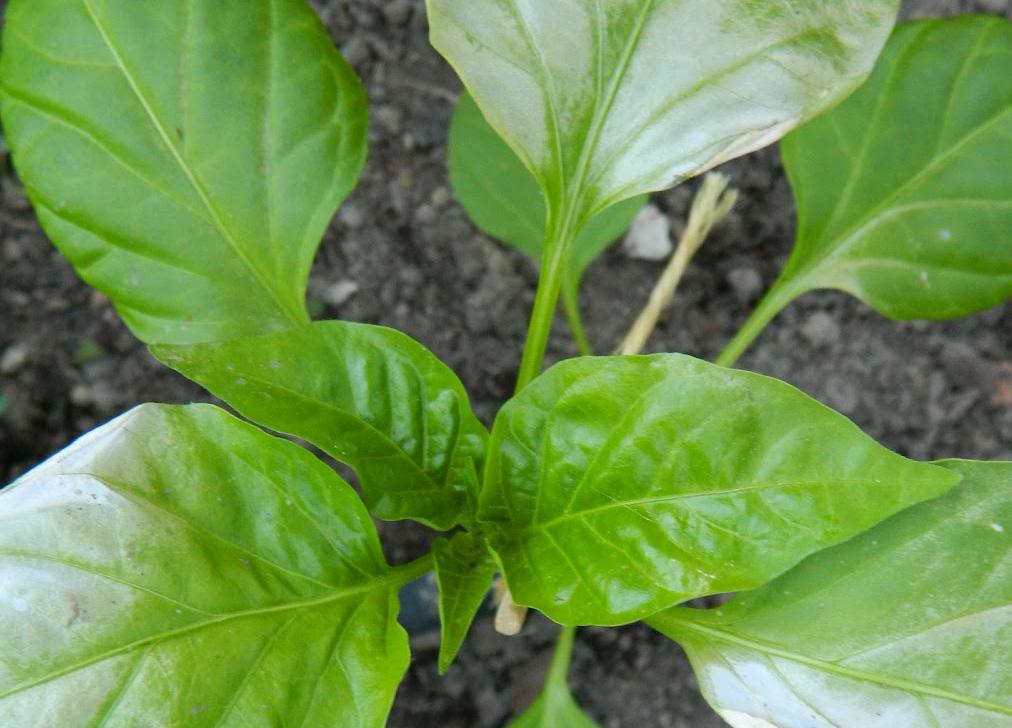Tomato leaf: (0, 0, 462, 498), (487, 345, 942, 620)
